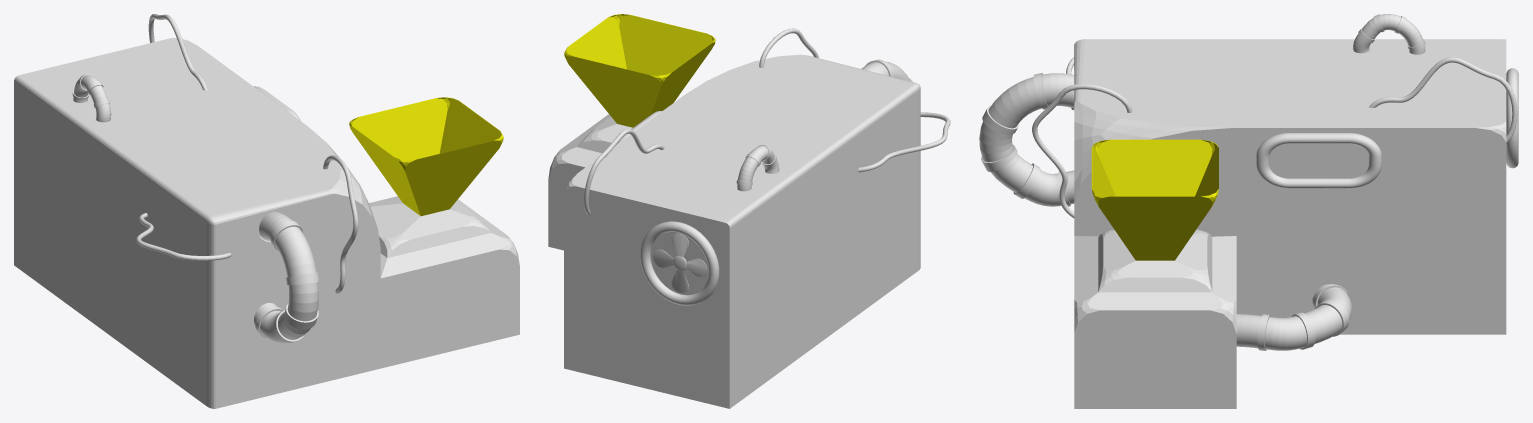
The model's file is Generator.fbx.
The picture shows the model from 3 angles, left to right: view 1: azimuth 30°, elevation 25°; view 2: azimuth 150°, elevation 25°; view 3: azimuth 270°, elevation 25°; orthographic projection. The views are drawn at different scales.
Parts seen in each view (by area): view 1: Mainer, PriemnitSparmy, PriemnitSparmy.001, BézierCurve.004, BézierCurve.005, BézierCurve.001, BézierCurve.002, BézierCurve; view 2: Mainer, PriemnitSparmy.001, PriemnitSparmy, OsnovanieVentela, VentleFon, Sphere, BézierCurve.005, BézierCurve, BézierCurve.002, BézierCurve.004, BézierCurve.001; view 3: Mainer, PriemnitSparmy, PriemnitSparmy.001, BézierCurve.004, BézierCurve.003, Blat, OsnovanieBlata, BézierCurve.005, BézierCurve.001, BézierCurve, OsnovanieVentela.
Part boxes in pixels (left/top/right/bottom): Mainer: left=14, top=38, right=380, bottom=408; PriemnitSparmy: left=369, top=196, right=519, bottom=368; PriemnitSparmy.001: left=349, top=97, right=503, bottom=216; BézierCurve.004: left=254, top=211, right=319, bottom=342; BézierCurve.005: left=72, top=74, right=111, bottom=122; BézierCurve.001: left=323, top=155, right=358, bottom=293; BézierCurve.002: left=136, top=213, right=231, bottom=260; BézierCurve: left=148, top=14, right=207, bottom=90; Mainer: left=564, top=54, right=920, bottom=408; PriemnitSparmy.001: left=564, top=14, right=715, bottom=127; PriemnitSparmy: left=548, top=114, right=632, bottom=250; OsnovanieVentela: left=640, top=221, right=719, bottom=305; VentleFon: left=650, top=232, right=708, bottom=295; Sphere: left=653, top=233, right=707, bottom=292; BézierCurve.005: left=736, top=145, right=779, bottom=191; BézierCurve: left=584, top=128, right=664, bottom=214; BézierCurve.002: left=858, top=112, right=950, bottom=172; BézierCurve.004: left=861, top=59, right=912, bottom=81; BézierCurve.001: left=759, top=28, right=818, bottom=67; Mainer: left=1074, top=39, right=1506, bottom=334; PriemnitSparmy: left=1074, top=229, right=1236, bottom=408; PriemnitSparmy.001: left=1091, top=139, right=1218, bottom=260; BézierCurve.004: left=979, top=73, right=1074, bottom=206; BézierCurve.003: left=1236, top=284, right=1352, bottom=350; Blat: left=1269, top=143, right=1368, bottom=178; OsnovanieBlata: left=1256, top=133, right=1382, bottom=188; BézierCurve.005: left=1353, top=14, right=1425, bottom=54; BézierCurve.001: left=1032, top=84, right=1132, bottom=218; BézierCurve: left=1369, top=57, right=1517, bottom=143; OsnovanieVentela: left=1506, top=68, right=1518, bottom=168.
Size of the model in its own units: 825 by 521 by 991.
